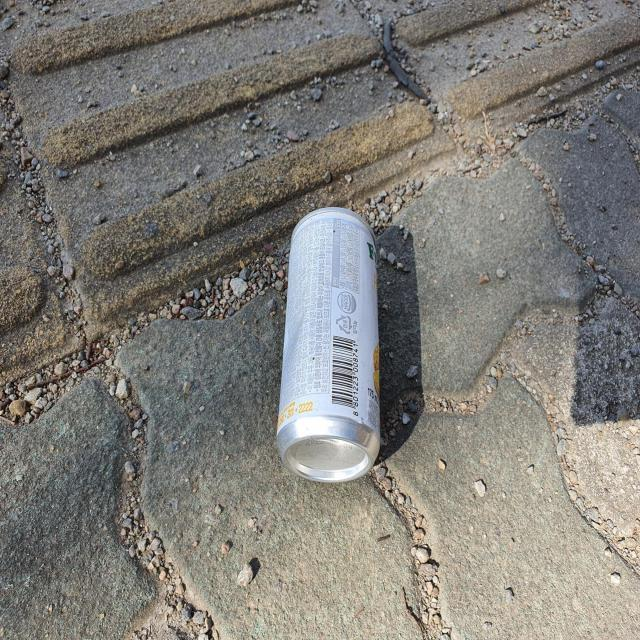can: (277, 207, 381, 483)
